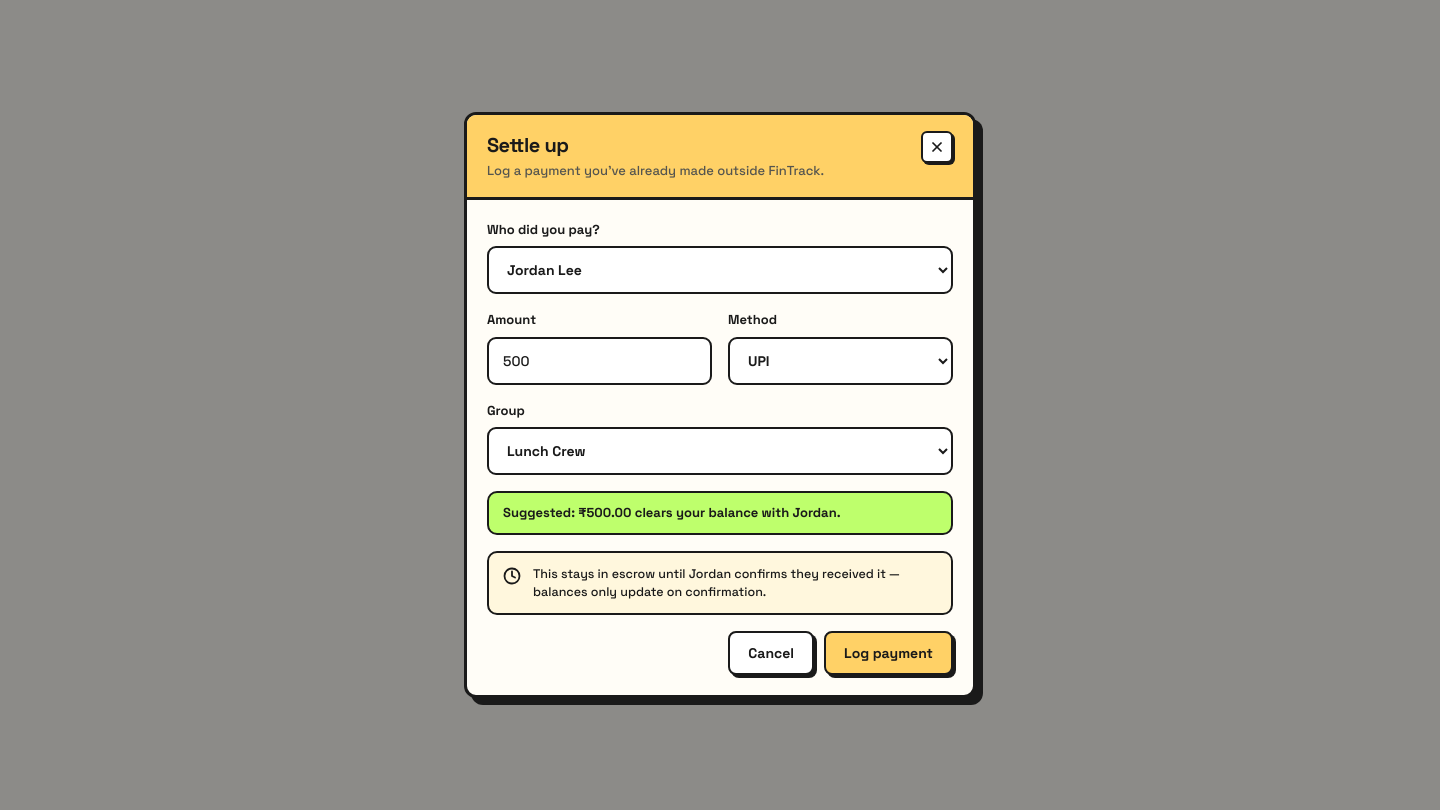
it: what gets submitted › refuses a zero amount
Replace the text in the number field labelled "Amount" with "0" at (600, 361), box [487, 337, 712, 385]
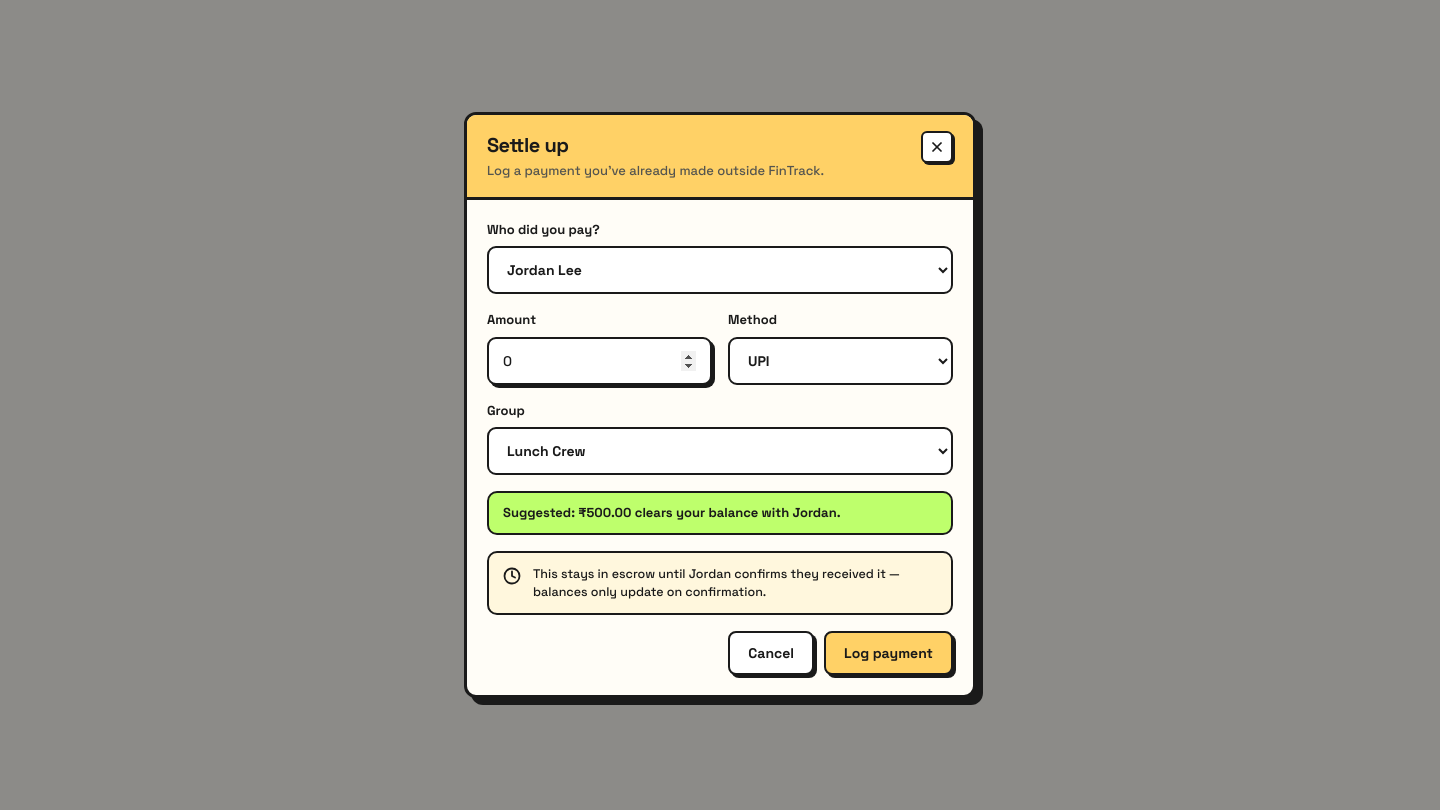
Click the button "Log payment".
click(888, 653)  # box [824, 631, 953, 675]
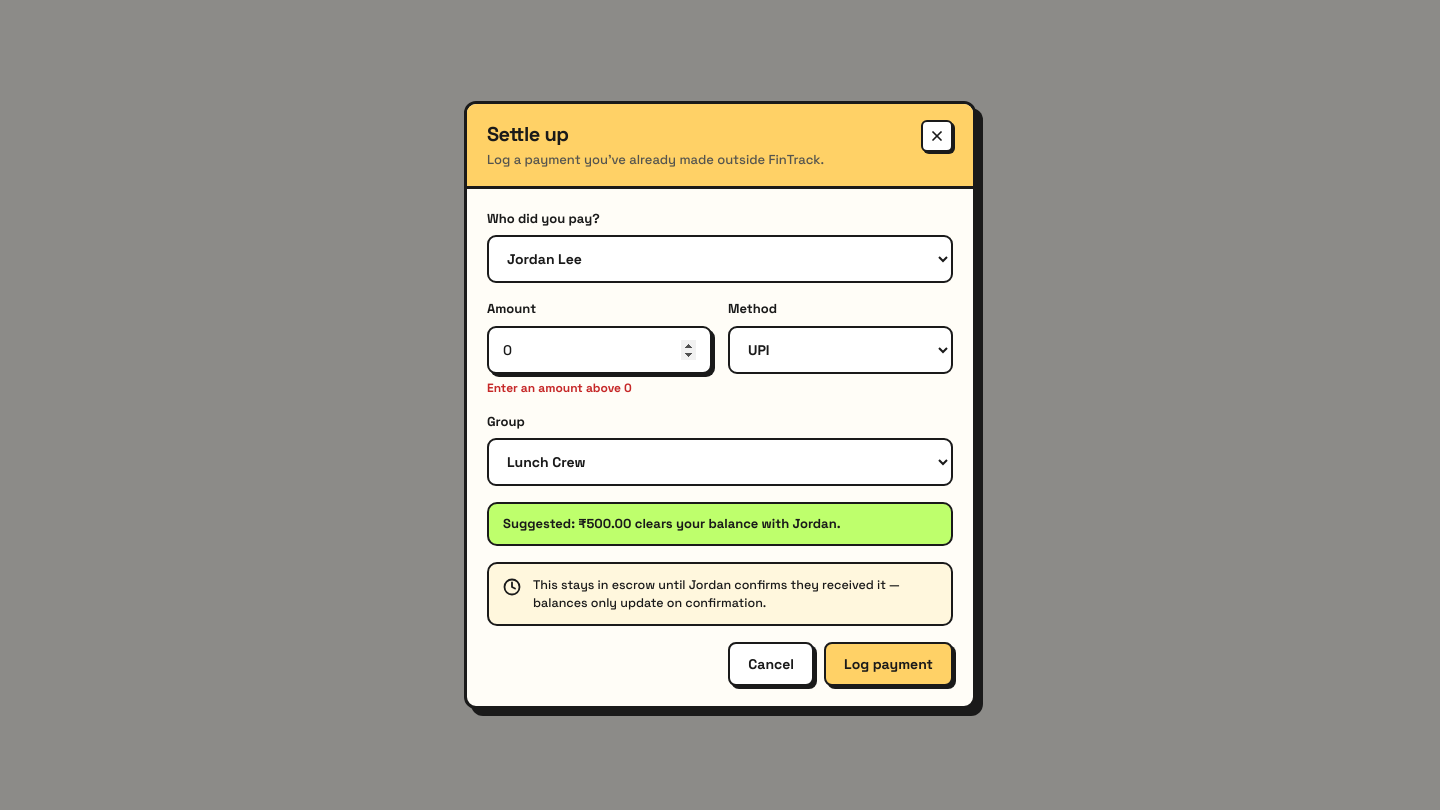
Check: the text "Enter an amount above 0" is shown, box [487, 380, 632, 396]
